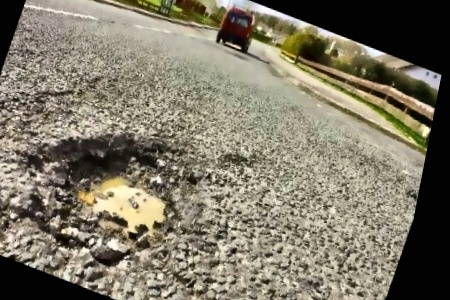pothole: (0, 91, 225, 300)
